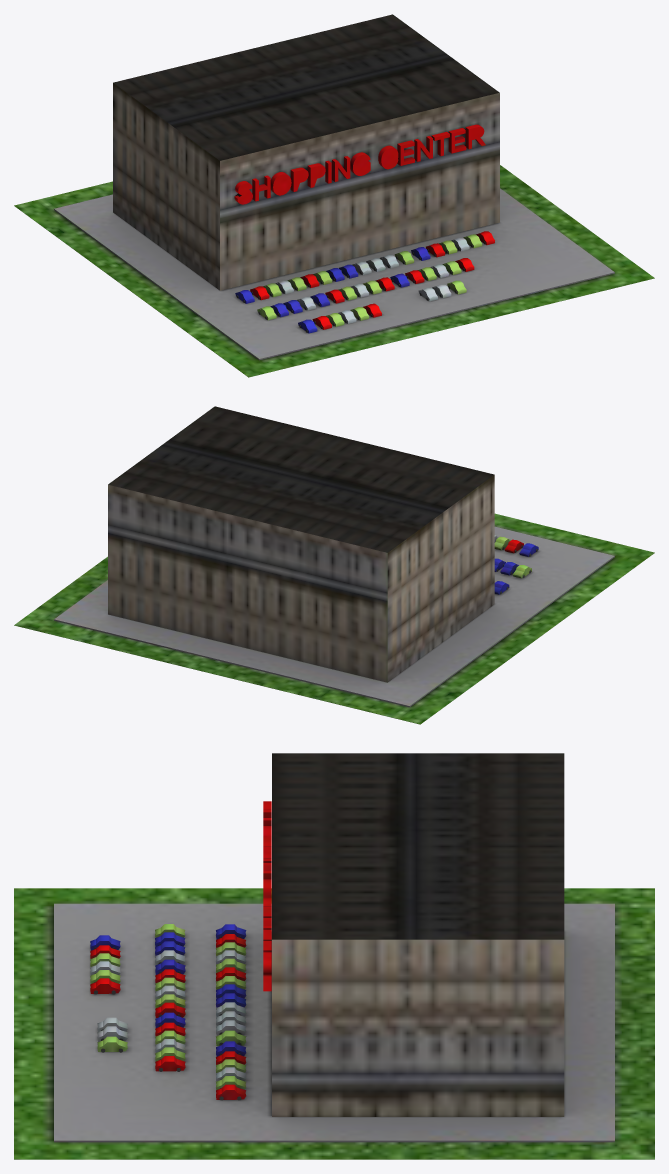
File: shopping-zone.FBX
3 views of the same model, one above another, from view 1: azimuth 30°, elevation 25°; view 2: azimuth 150°, elevation 25°; view 3: azimuth 270°, elevation 25° (orthographic). The views are drawn at different scales.
Parts seen in each view (by area): view 1: Box004; view 2: Box004; view 3: Box004.
Part boxes in pixels (bbox=[...]): Box004: bbox=[14, 14, 654, 377]; Box004: bbox=[14, 406, 654, 724]; Box004: bbox=[14, 753, 654, 1159].
Size of the model in its own units: 800 by 247 by 800.
Materials: 1 (1 with a texture image).
